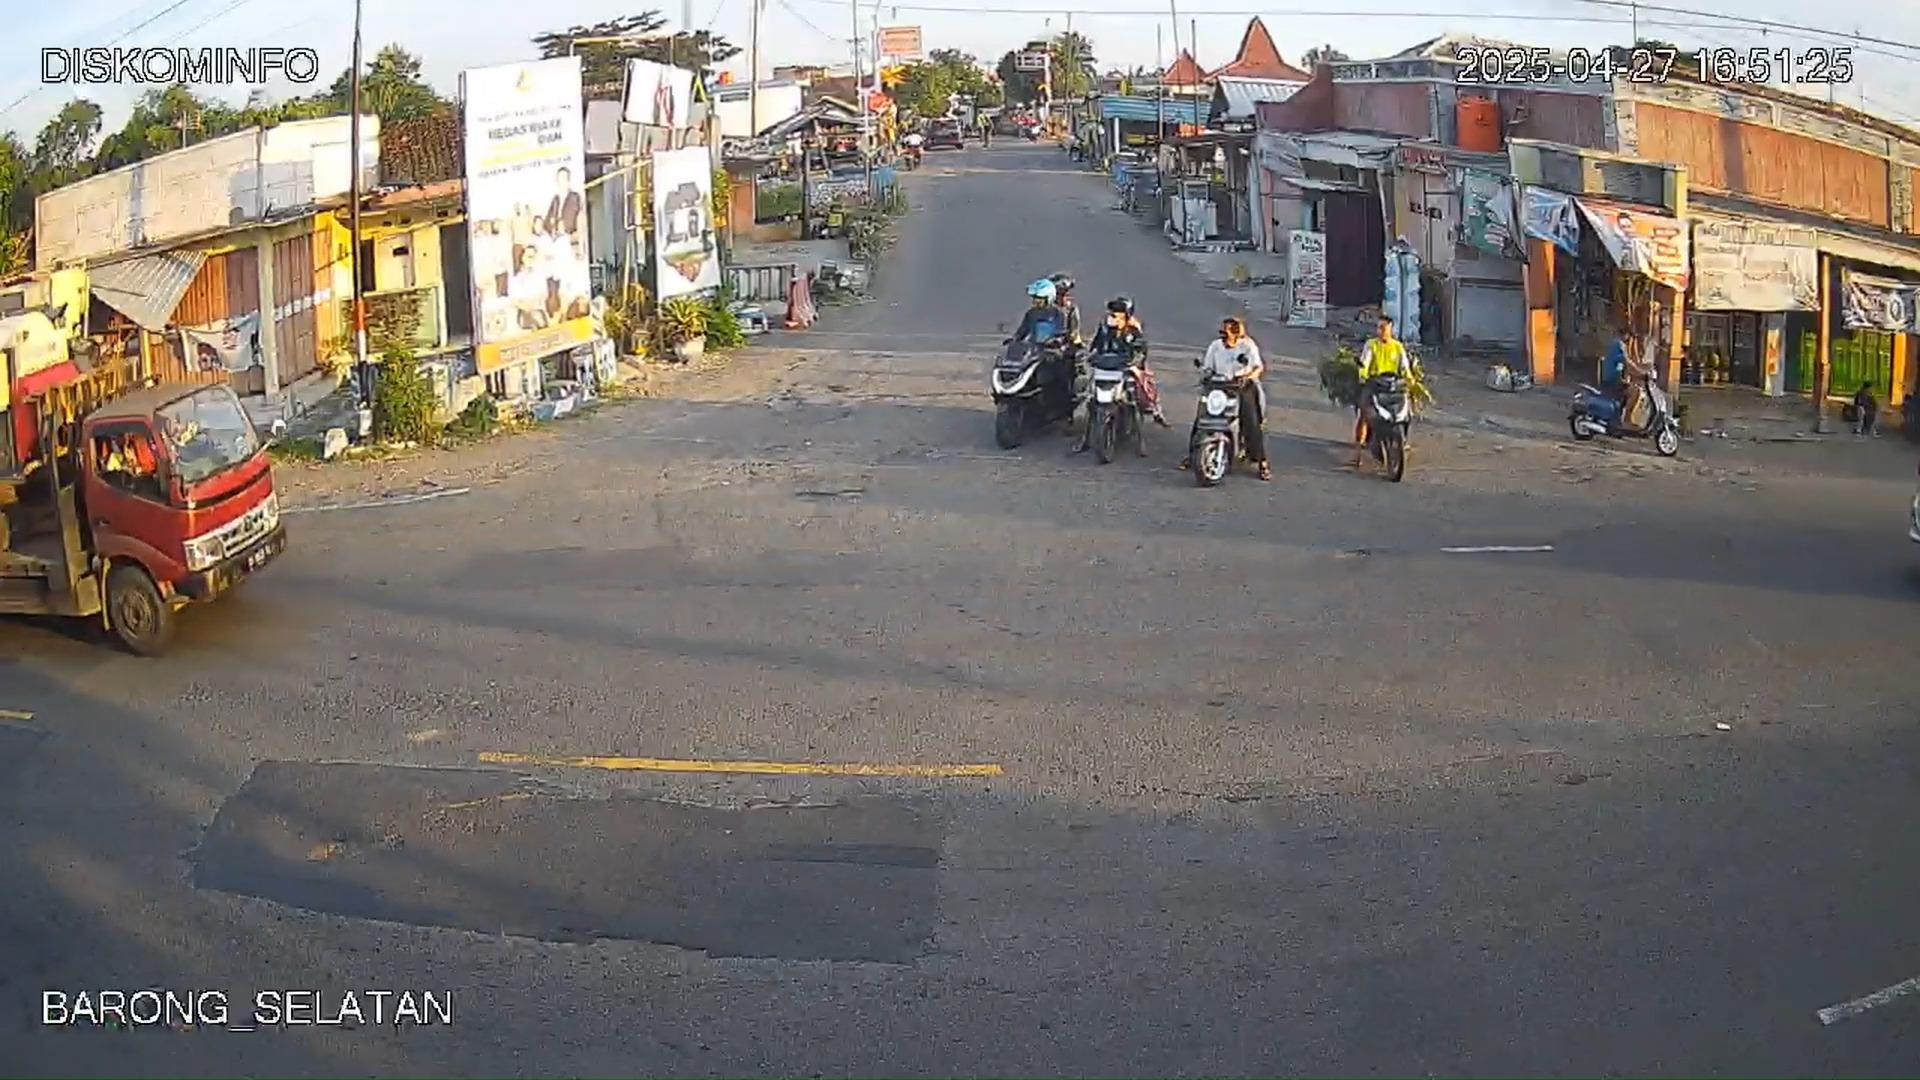Motor: (1191, 316, 1270, 481), (989, 318, 1088, 448), (1080, 295, 1164, 436), (1567, 359, 1685, 458), (1352, 313, 1415, 465)
Truck: (3, 264, 287, 675)
